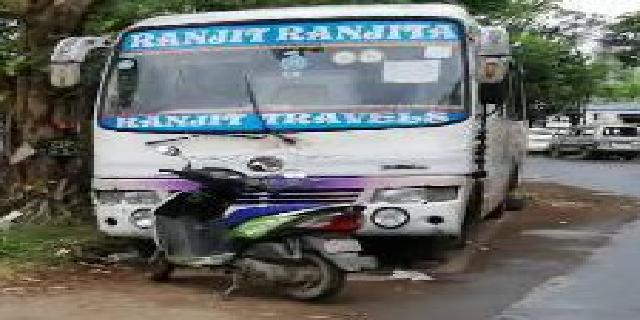Bus: (90, 13, 512, 287)
Motorbike: (137, 152, 357, 307)
